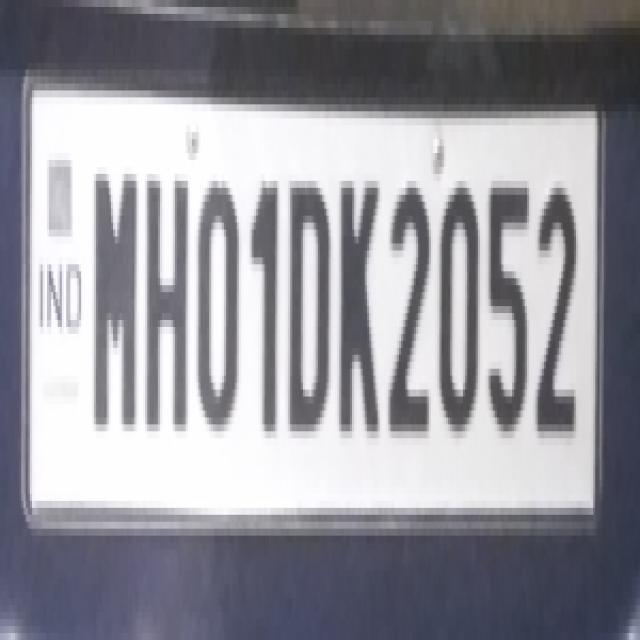0: (435, 176, 483, 436), (195, 172, 243, 431)
1: (247, 174, 284, 438)
5: (486, 172, 534, 444)
D: (286, 172, 334, 440)
H: (144, 152, 190, 438)
K: (337, 168, 385, 444)
M: (86, 158, 142, 440)
